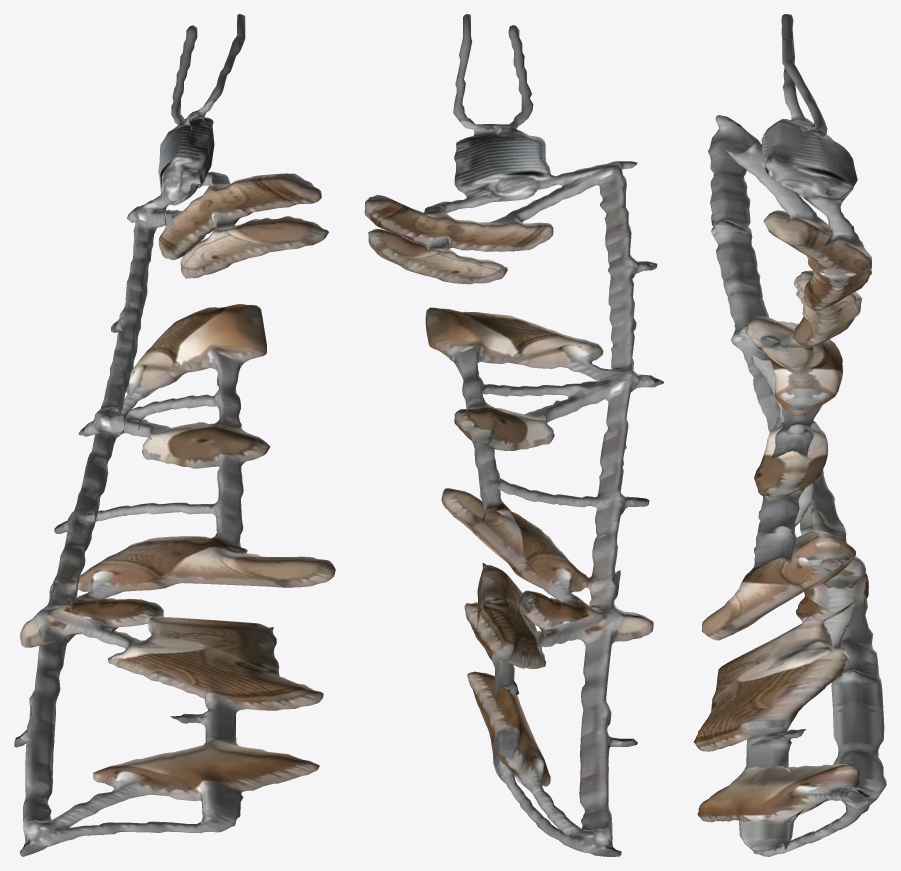
Rendered from hy3d-mov-010.glb.
The picture shows the model from 3 angles, left to right: view 1: azimuth 30°, elevation 25°; view 2: azimuth 150°, elevation 25°; view 3: azimuth 270°, elevation 25°; orthographic projection. The views are drawn at different scales.
Visible parts, largest first — view 1: world; view 2: world; view 3: world.
Boxes of the visible parts, x1,y1,x2,y2 form: world: (14,14,335,856); world: (364,14,664,856); world: (693,14,886,856).
Bounding box in the file's own units: 0.9225 × 2.39 × 0.4915.
Materials: 1 (1 with a texture image).
